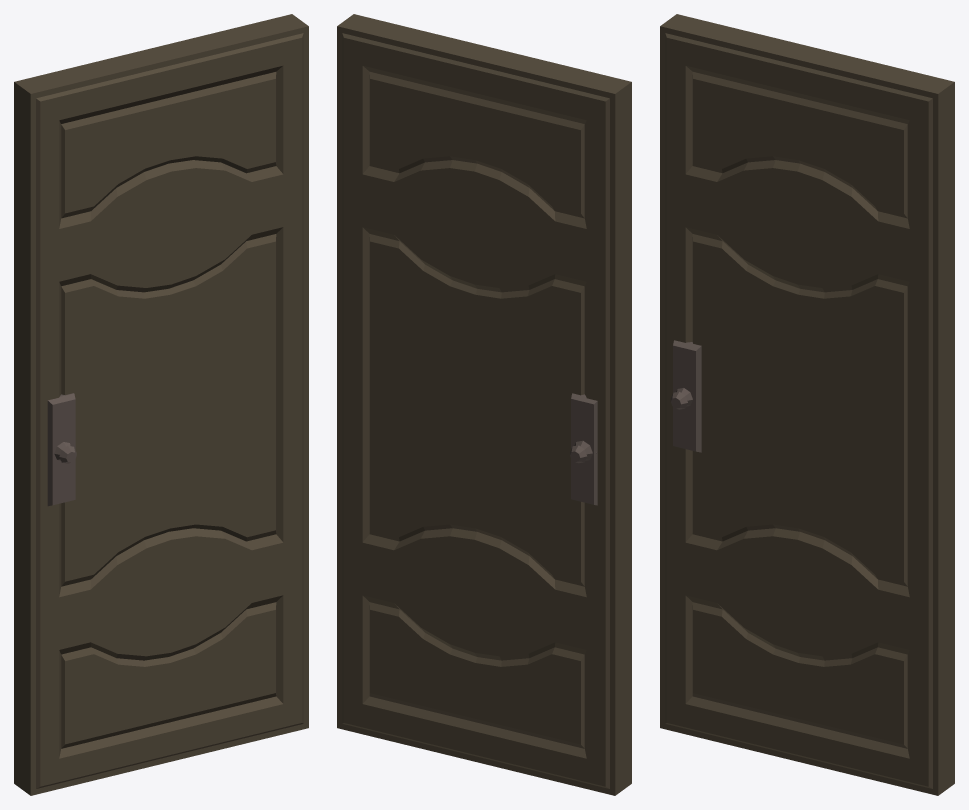
File: Door_8.gltf
3 renders of one model, left to right at view 1: azimuth 30°, elevation 25°; view 2: azimuth 150°, elevation 25°; view 3: azimuth 330°, elevation 25°, orthographic.
Visible parts, largest first — view 1: Door_8; view 2: Door_8; view 3: Door_8.
Boxes of the visible parts, box(x1,y1,x2,y2) form: Door_8: box(14, 14, 308, 795); Door_8: box(337, 14, 631, 795); Door_8: box(660, 14, 954, 795).
Bounding box in the file's own units: 1.74 × 4.2 × 0.4424.
